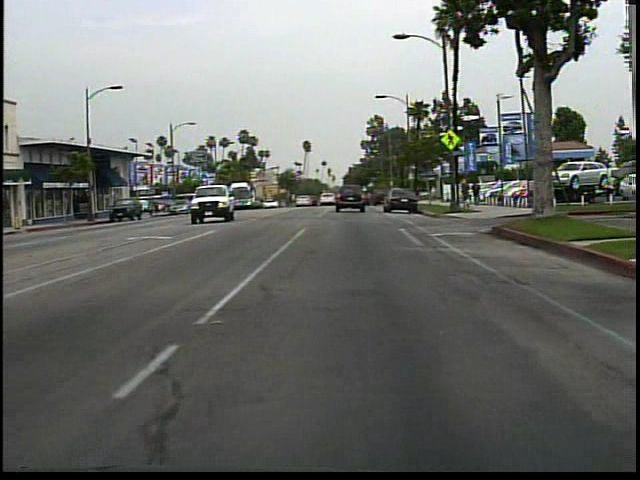person: (539, 176, 562, 219)
